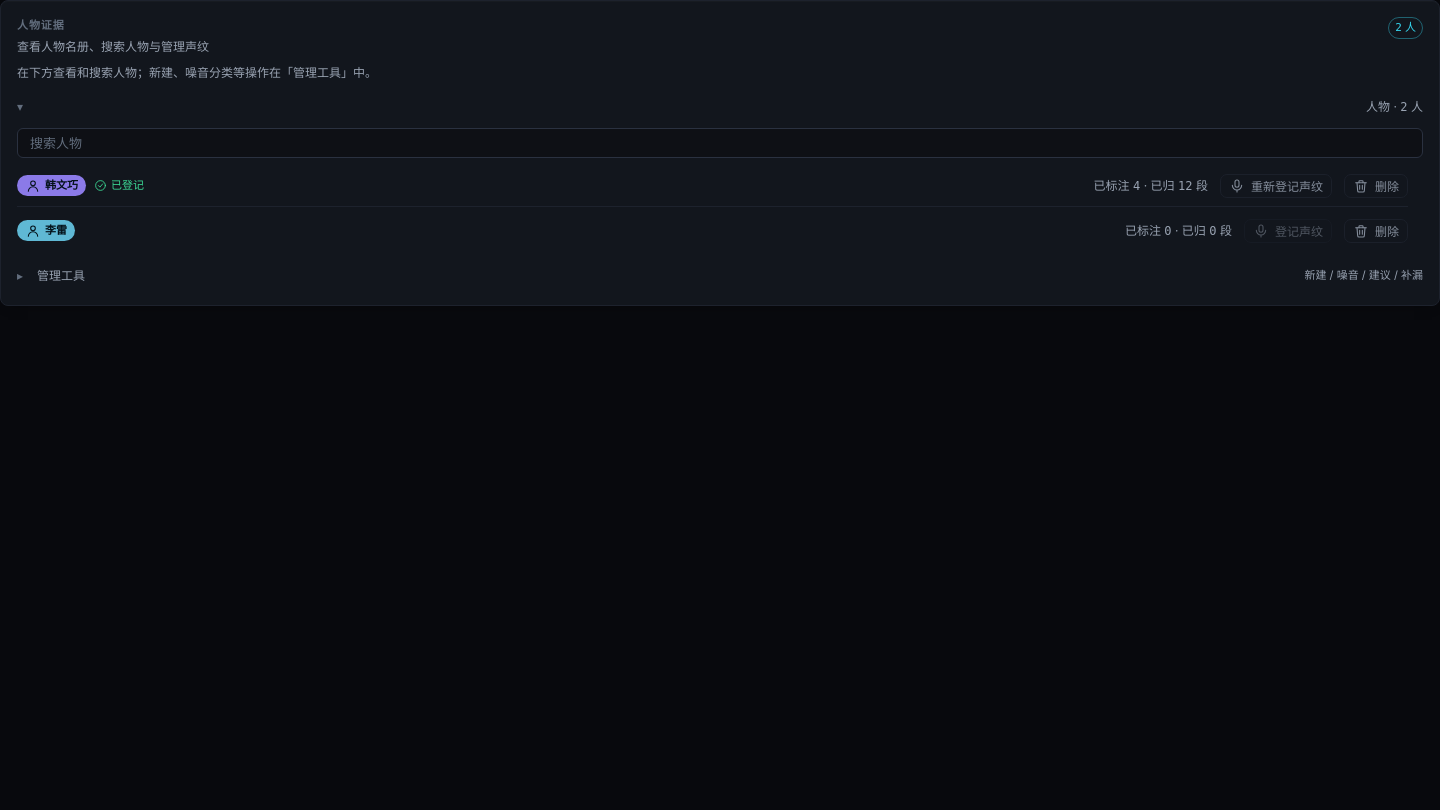
Test case: PeoplePanel › renders non_speaker people in a separate 非发言人 group WITHOUT a 登记声纹 button
The width and height of the screenshot is (1440, 810).
Click the heading "管理工具 新建 / 噪音 / 建议 / 补漏": (61, 275) [37,268,1423,282]
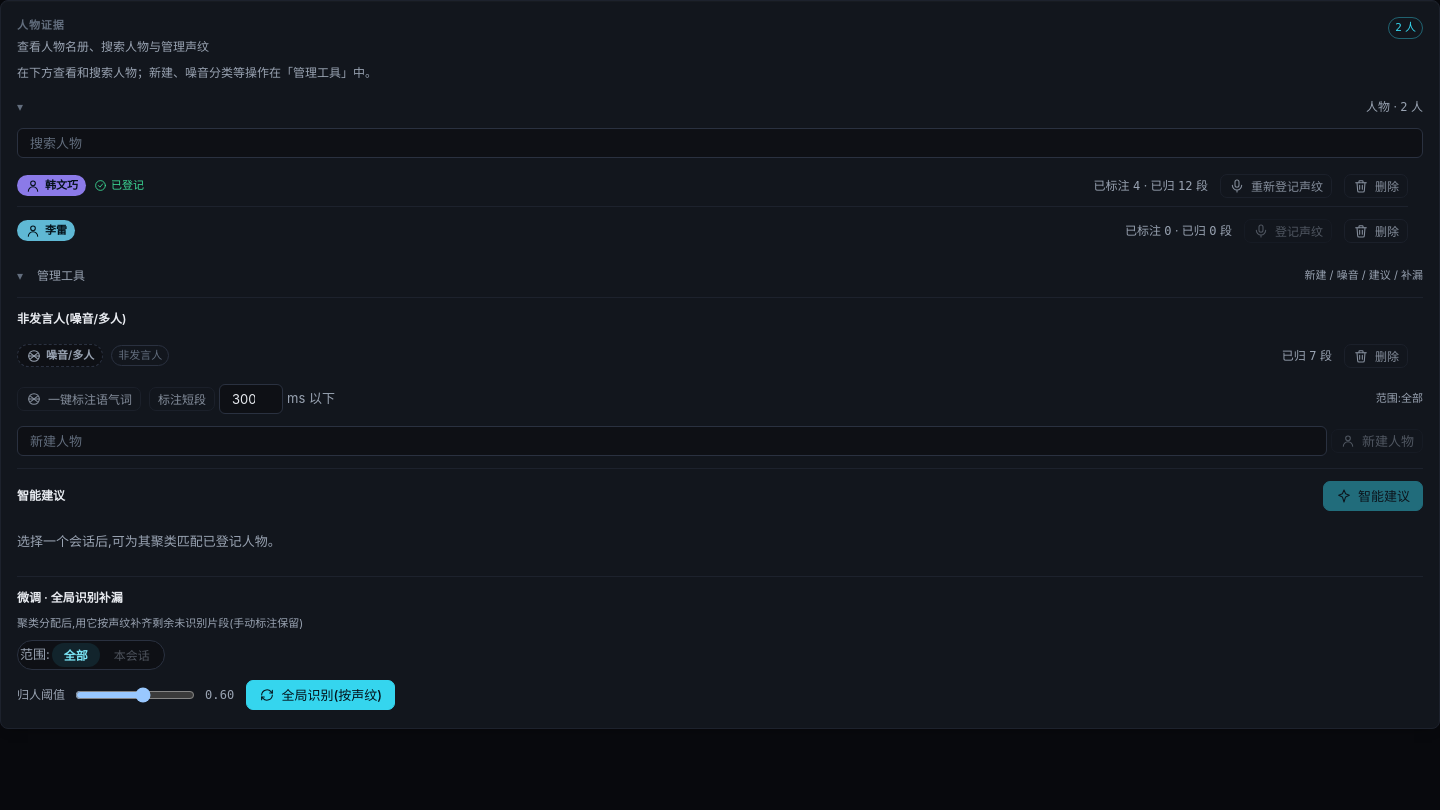
Expected: the text "噪音/多人" is shown, [46,348,94,362]
